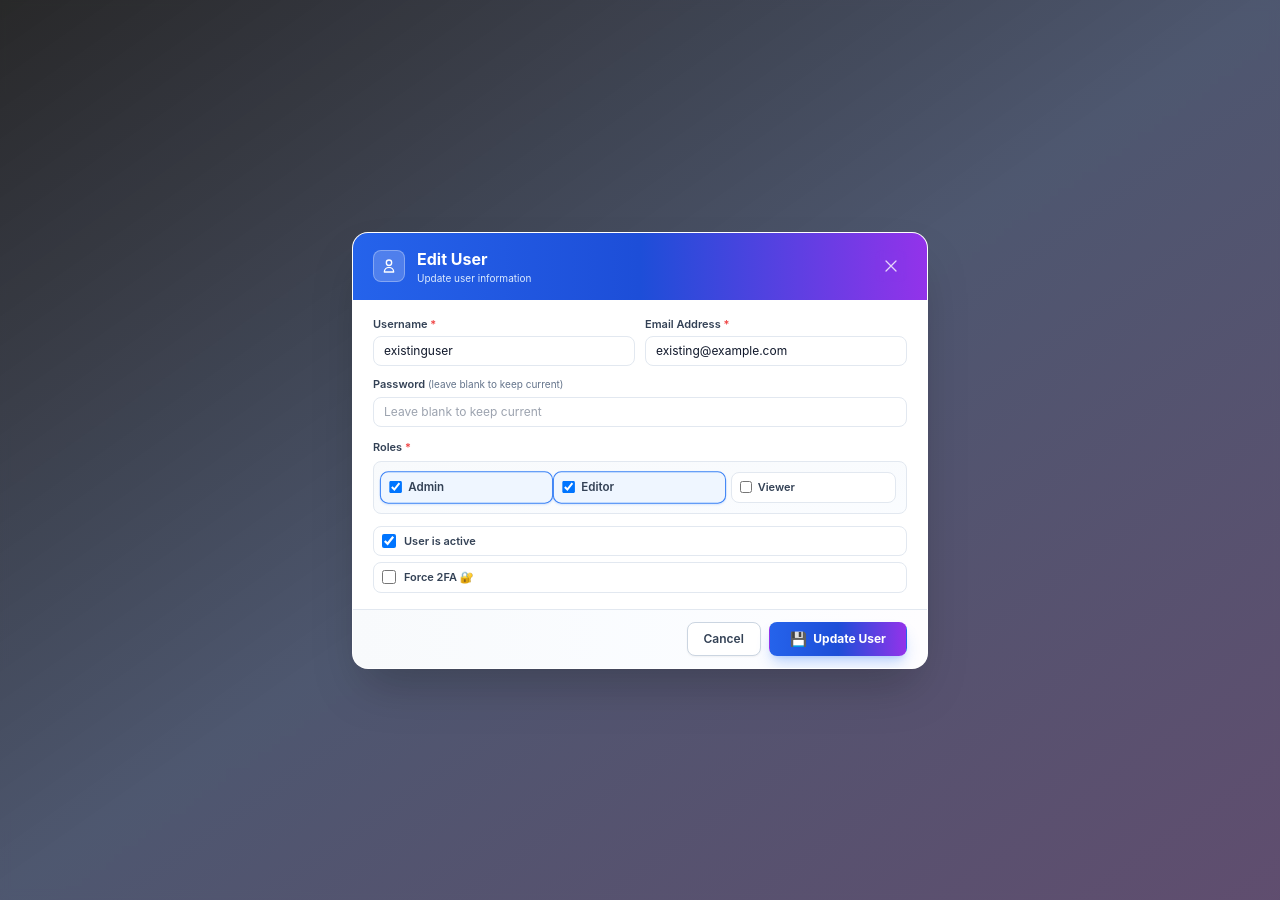
Test: UserModal Component › Edit Mode › should still require at least one role in edit mode
Uncheck all roles
Click the checkbox labelled "Admin": click(396, 487) [389,481,402,494]
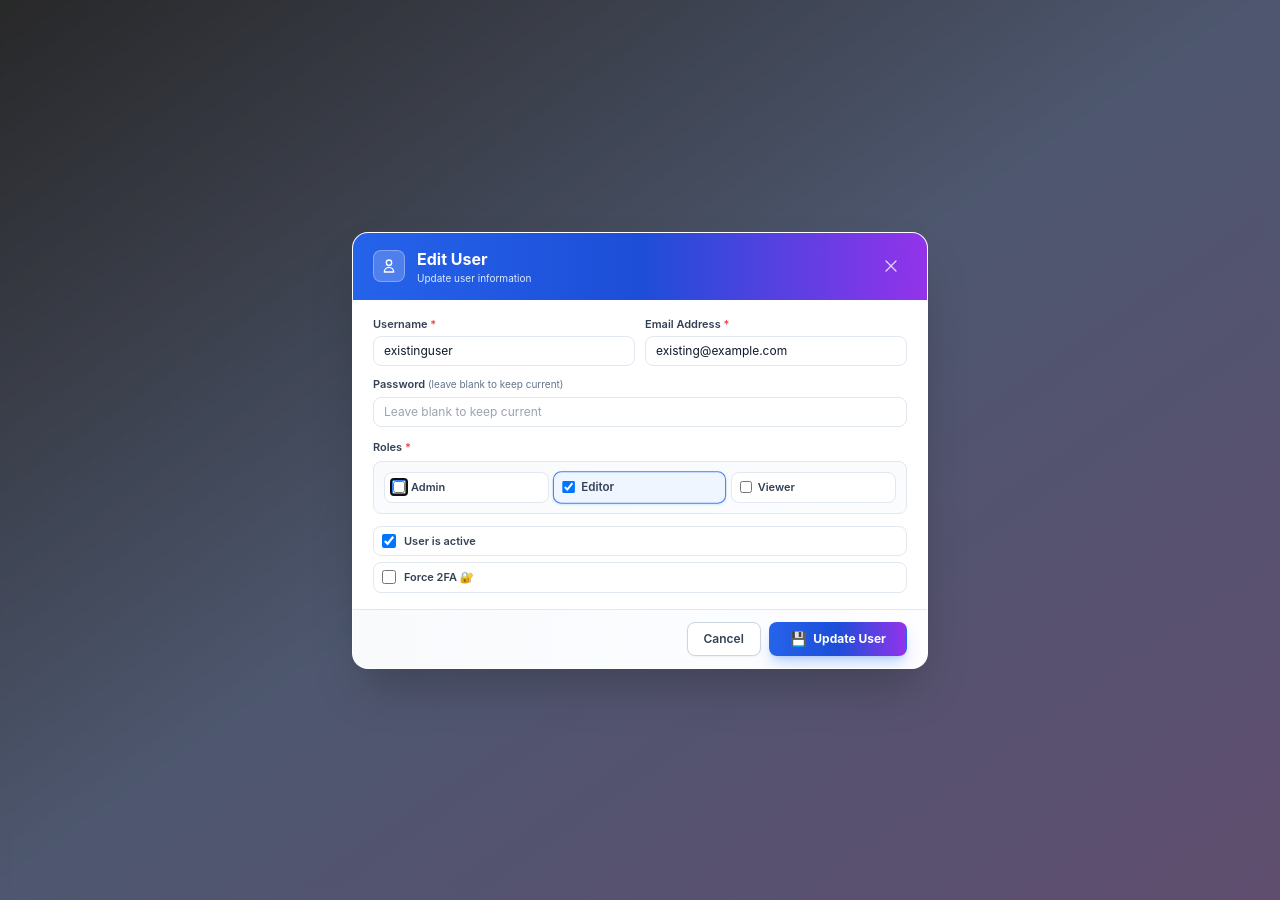
Click the checkbox labelled "Editor": click(569, 487) [563,481,575,494]
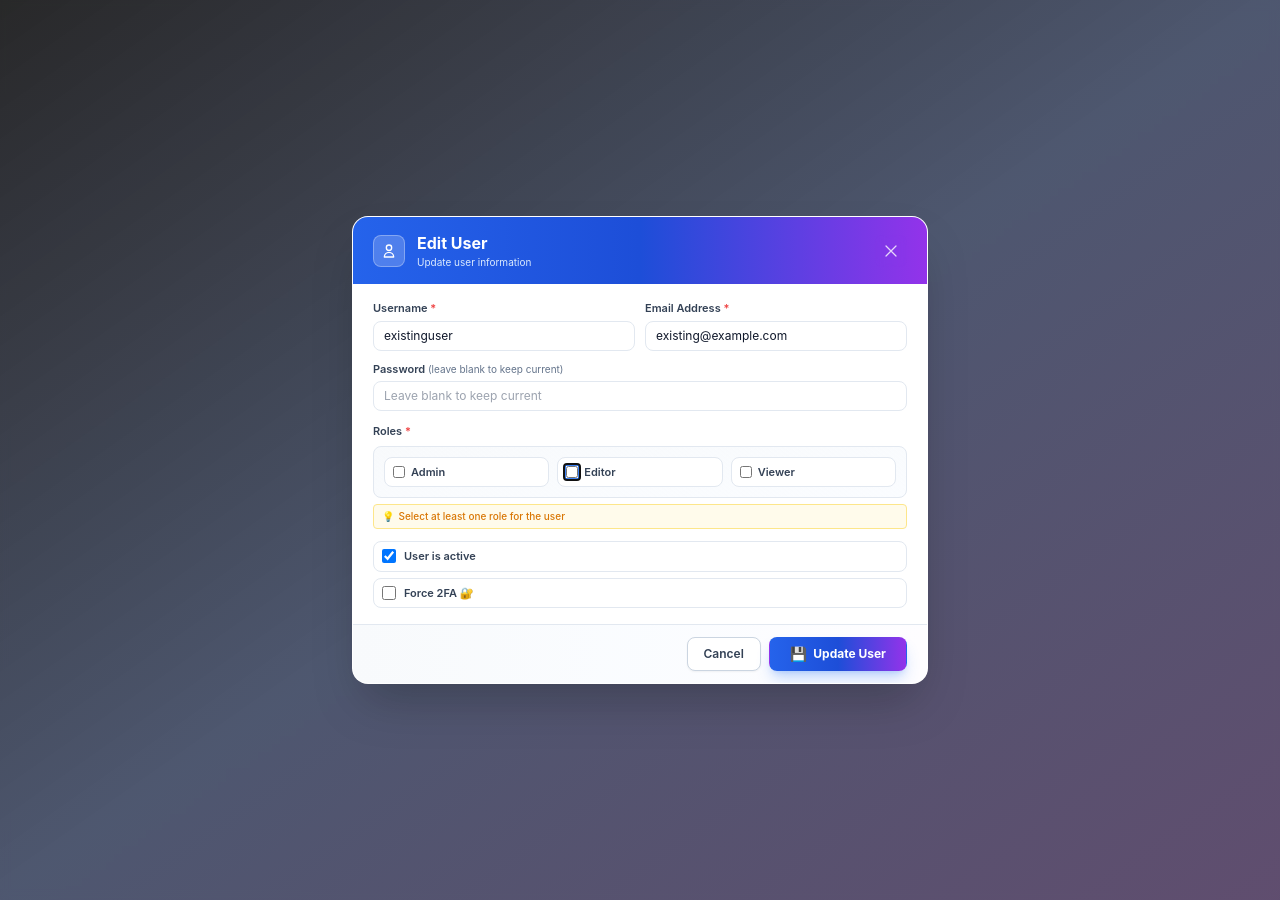
Click the text "Update User": click(850, 654) [813,646,886,662]
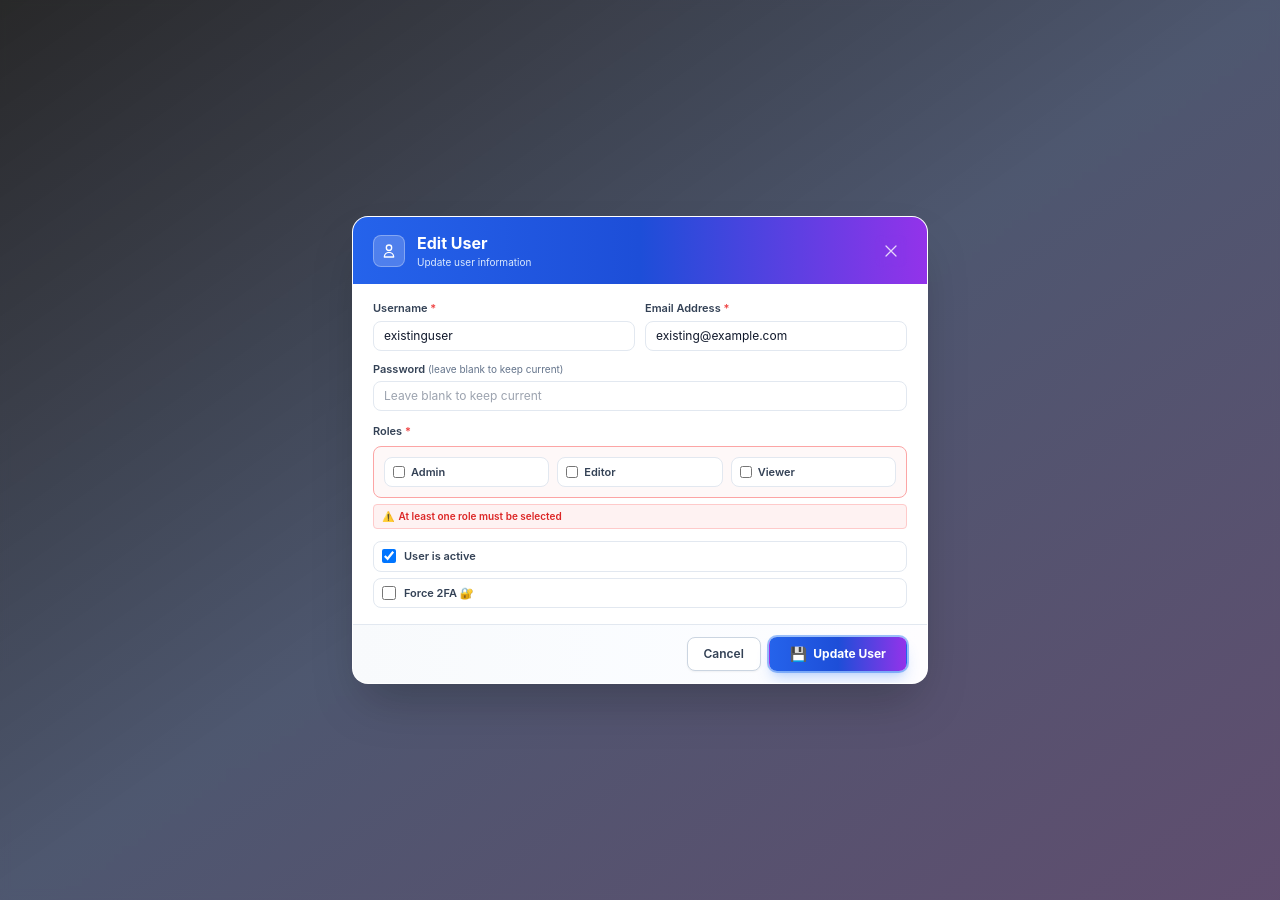
Expected: the text "⚠️ At least one role must be selected" is shown, [373,504,907,529]
